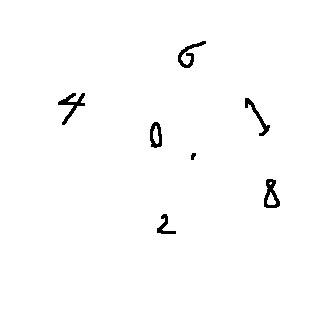.: (185, 147, 201, 169)
0: (144, 120, 174, 156)
1: (234, 90, 282, 142)
2: (151, 207, 182, 242)
4: (47, 84, 90, 129)
6: (170, 32, 212, 74)
8: (259, 175, 285, 215)
